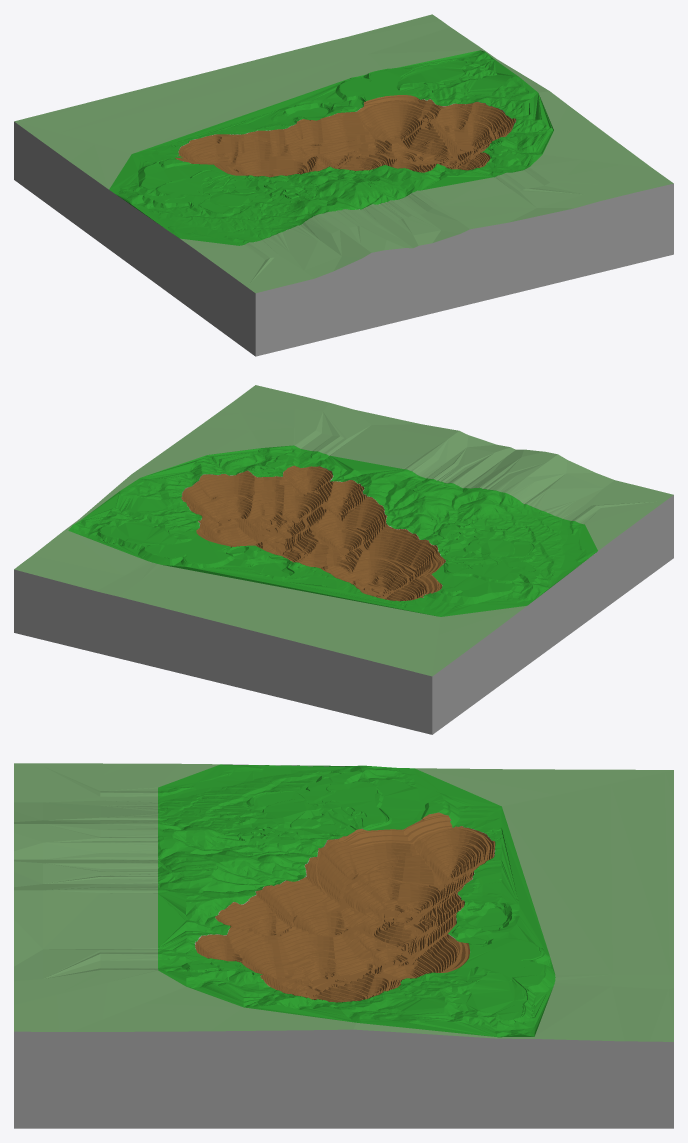
File: AGMK.glb
3 views of the same model, one above another, from view 1: azimuth 30°, elevation 25°; view 2: azimuth 150°, elevation 25°; view 3: azimuth 270°, elevation 25° (orthographic). The views are drawn at different scales.
Visible parts, largest first — view 1: cant, cube, land, pit; view 2: cant, cube, land, pit; view 3: cant, cube, land, pit.
Boxes of the visible parts, x1=… form: cant: x1=14, y1=14, x2=673, y2=293; cube: x1=14, y1=99, x2=673, y2=356; land: x1=109, y1=50, x2=553, y2=245; pit: x1=175, y1=95, x2=515, y2=177; cant: x1=14, y1=385, x2=673, y2=676; cube: x1=14, y1=446, x2=673, y2=734; land: x1=68, y1=445, x2=597, y2=616; pit: x1=181, y1=465, x2=445, y2=601; cant: x1=14, y1=763, x2=673, y2=1041; cube: x1=14, y1=764, x2=673, y2=1128; land: x1=158, y1=764, x2=555, y2=1037; pit: x1=195, y1=812, x2=495, y2=1002.
Bounding box in the file's own units: 11.5 × 2.02 × 11.5.
